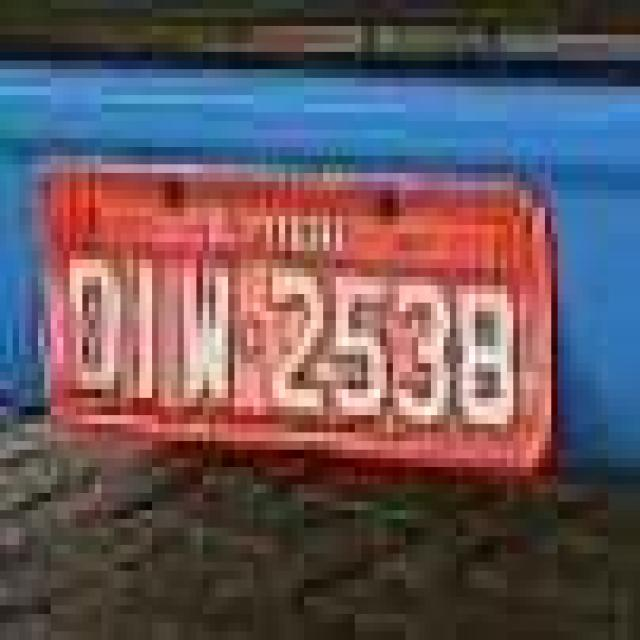1: (123, 244, 163, 409)
3: (396, 267, 455, 439)
5: (334, 267, 388, 426)
8: (458, 271, 520, 440)
B: (180, 248, 242, 412), (64, 236, 116, 406)
